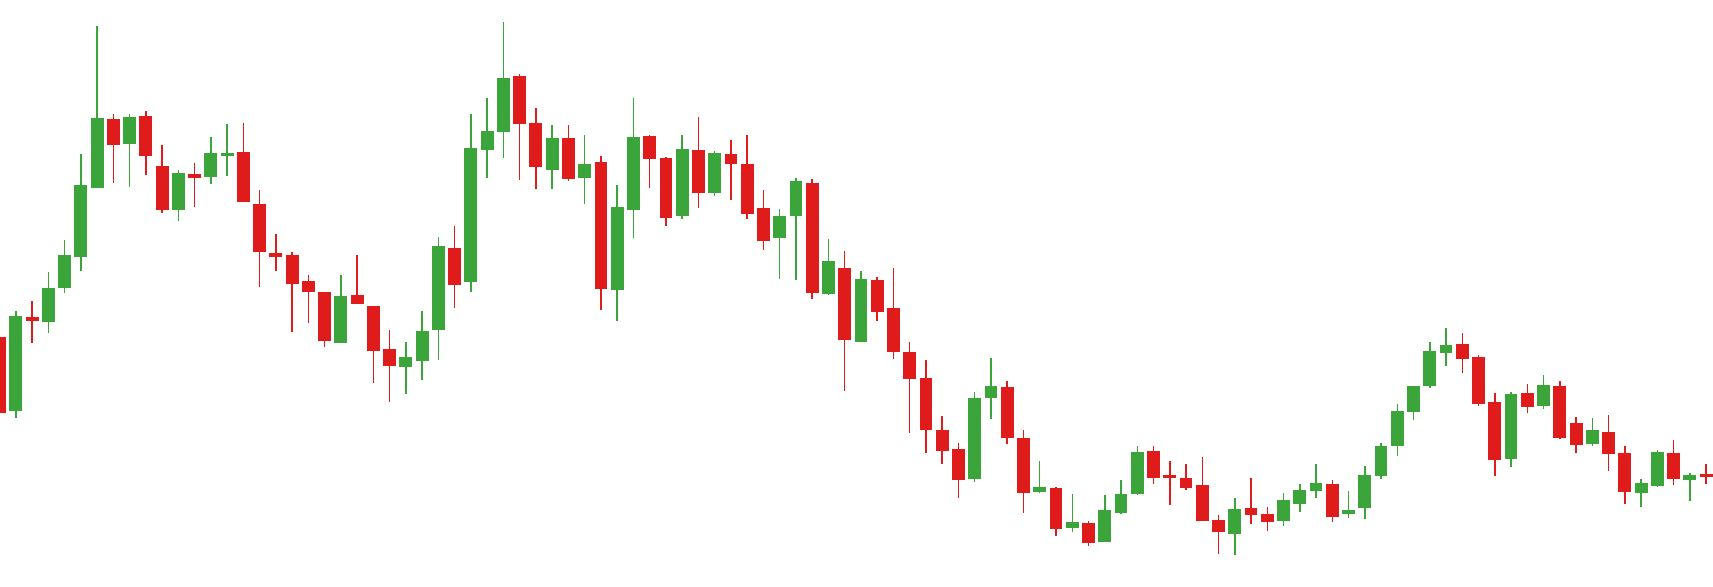buy: (1082, 483, 1242, 559)
sell: (88, 19, 527, 250), (982, 330, 1473, 443)
